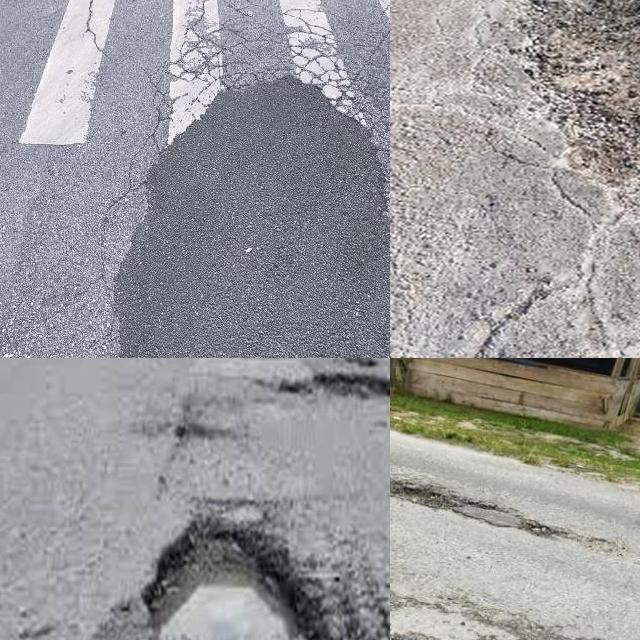Lubang: (519, 0, 640, 219), (140, 526, 324, 640), (307, 371, 390, 399)
Sambungan: (118, 77, 390, 358)
